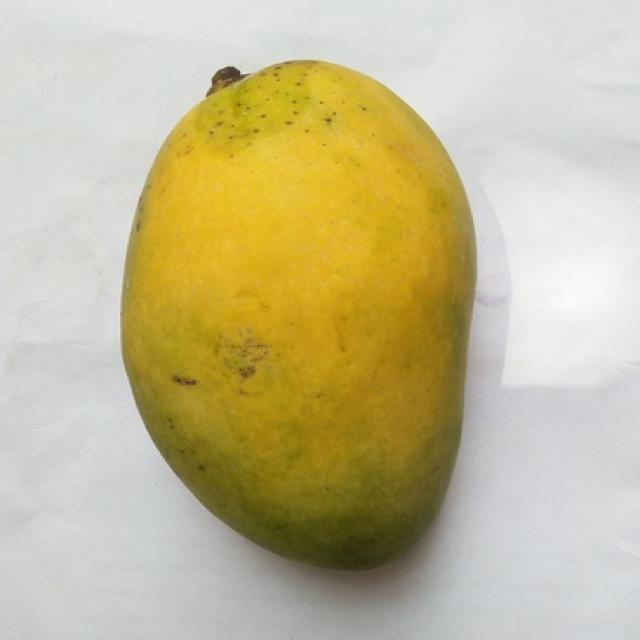Mango: (122, 63, 475, 564)
